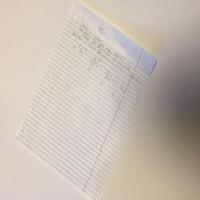paper: (13, 0, 158, 200)
